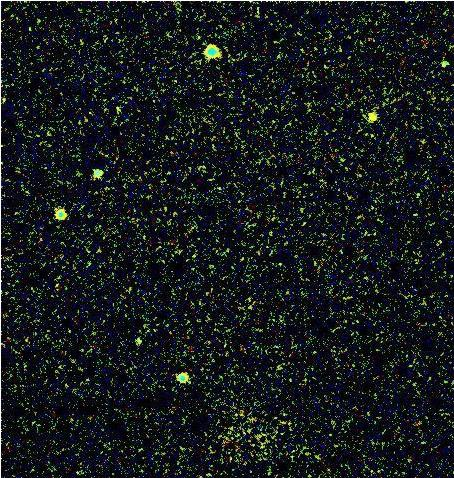star: (362, 102, 392, 132)
